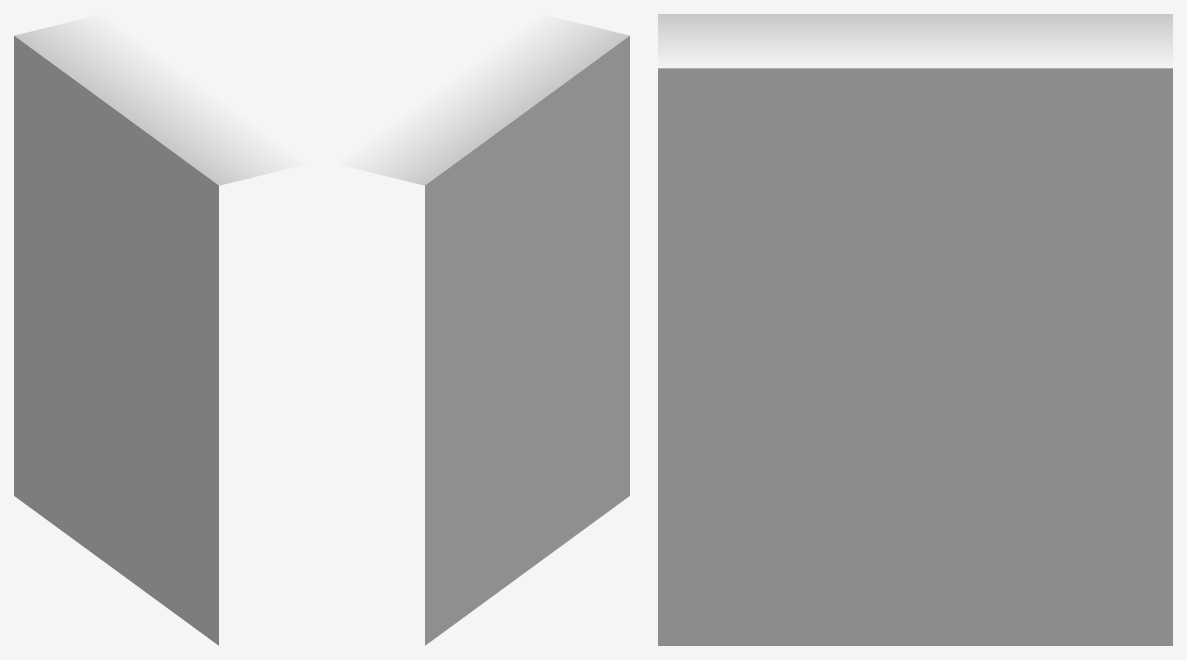
3 views of the same model, side by side, from view 1: azimuth 30°, elevation 25°; view 2: azimuth 150°, elevation 25°; view 3: azimuth 270°, elevation 25° (orthographic). The views are drawn at different scales.
Size of the model in its own units: 0.25 by 1.24 by 1.
Materials: 1 (1 with a texture image).
